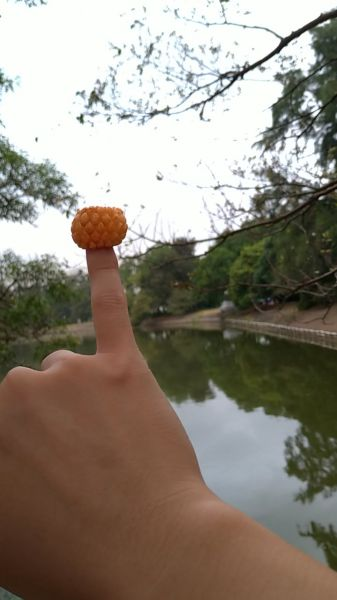eggs: (70, 205, 128, 249)
